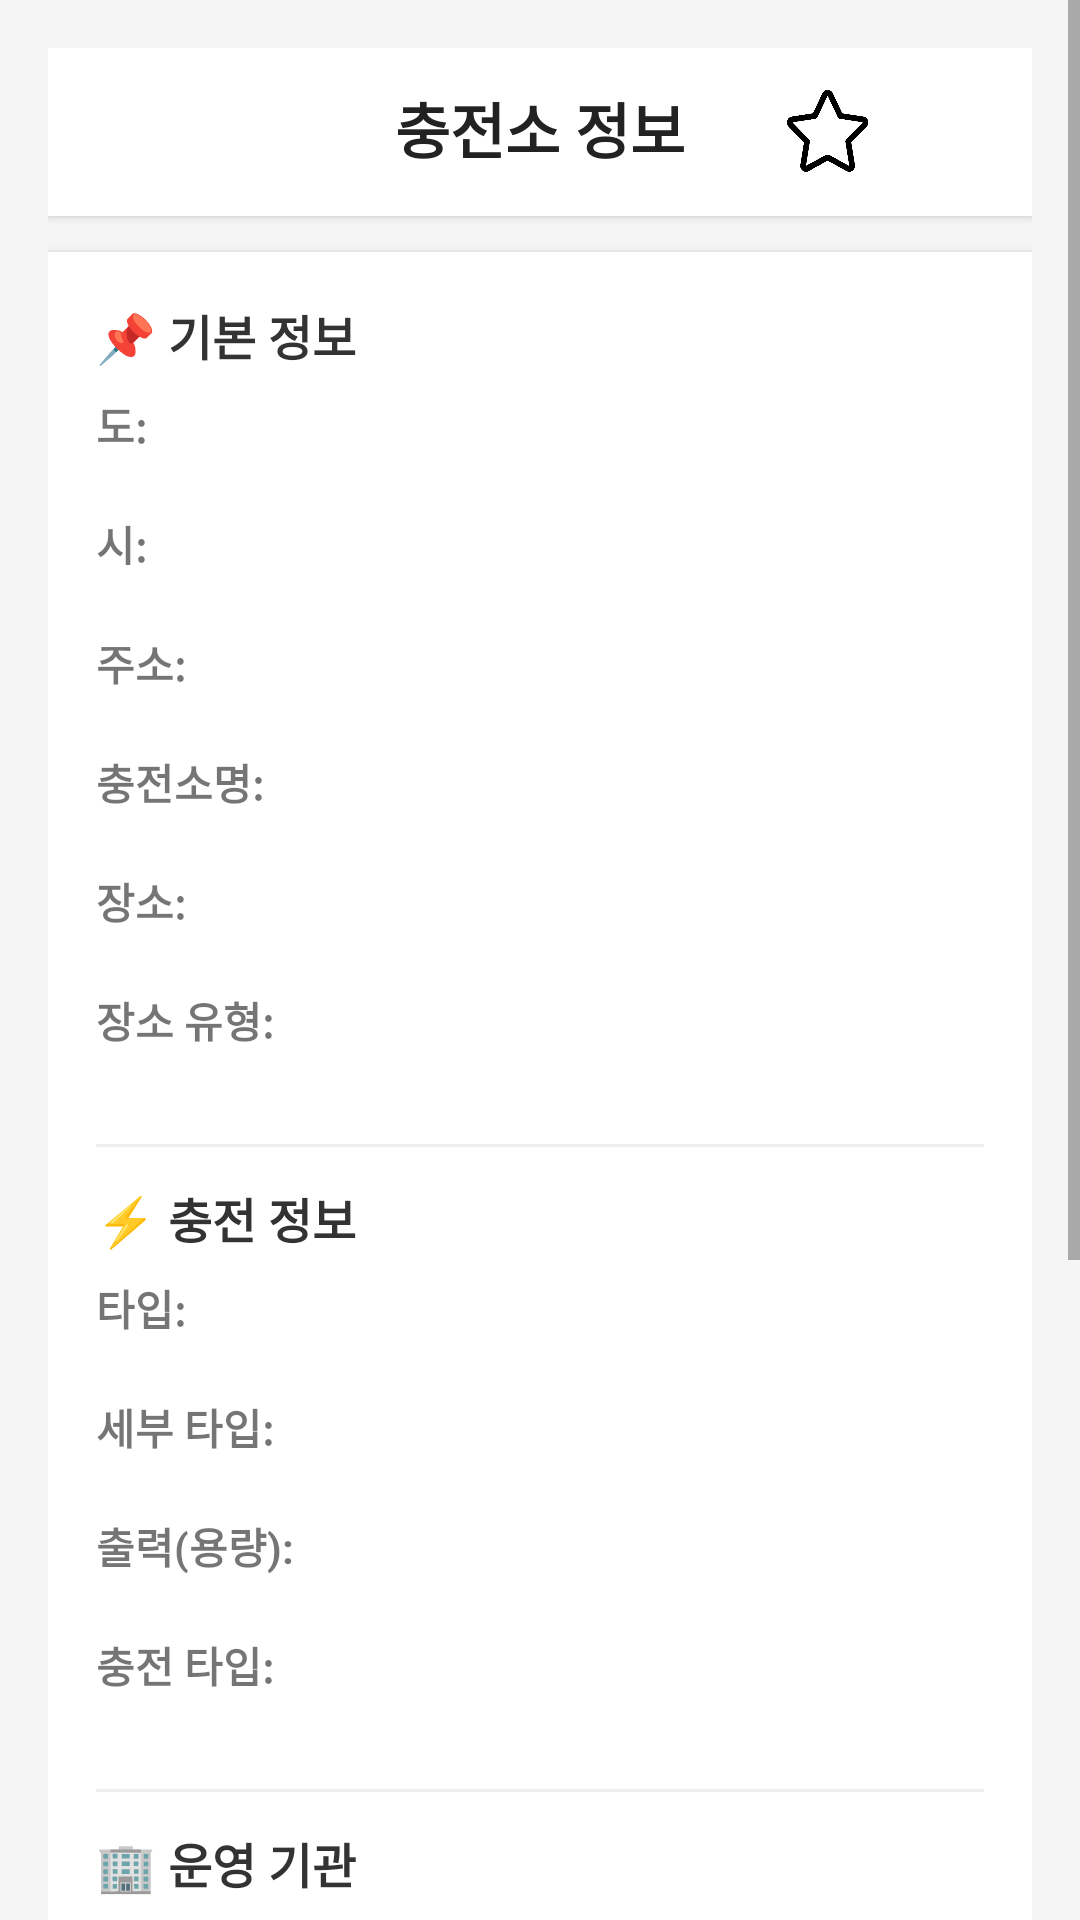

Point at icon controls on the screen. Image size 1080px×1920px, points as point (x, y).
즐겨찾기 버튼: point (827, 131)
